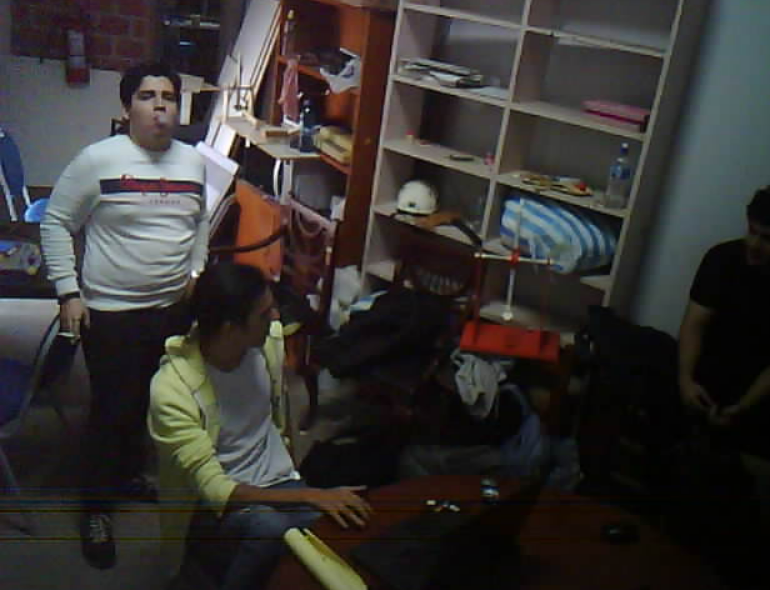person: (22, 43, 230, 579), (151, 253, 396, 589), (667, 171, 770, 488)
